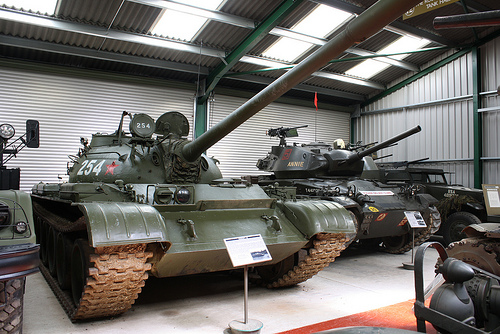rifle: (261, 120, 311, 147)
